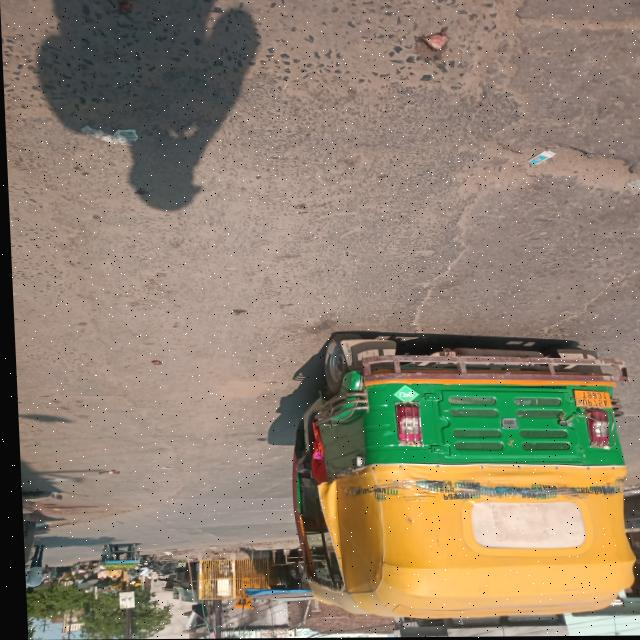plate: (570, 386, 609, 411)
